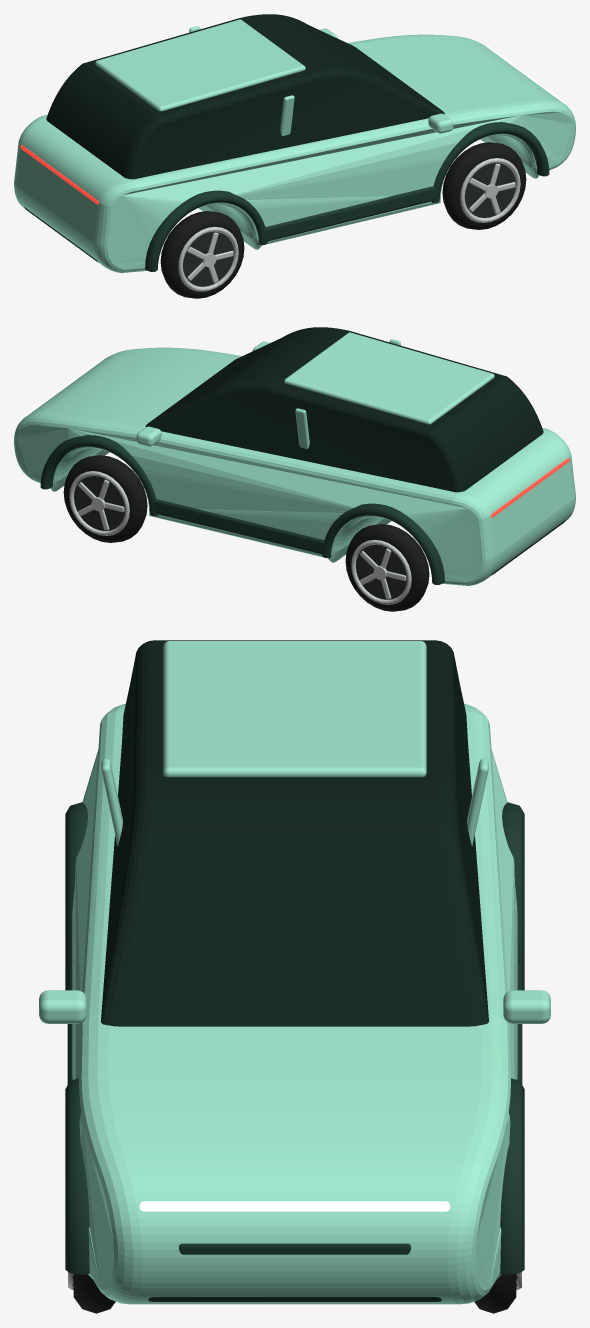
File: fiado-bil.glb
3 renders of one model, top to bottom at view 1: azimuth 30°, elevation 25°; view 2: azimuth 150°, elevation 25°; view 3: azimuth 270°, elevation 25°, orthographic. The views are drawn at different scales.
Visible parts, largest first — view 1: Karrosseri, FiadoBil, Ruder; view 2: Karrosseri, FiadoBil, Ruder; view 3: Karrosseri, Ruder, FiadoBil.
Boxes of the visible parts, x1,y1,x2,y2 form: Karrosseri: (14, 34, 575, 272); FiadoBil: (20, 19, 565, 298); Ruder: (46, 14, 444, 179); Karrosseri: (14, 347, 575, 585); FiadoBil: (24, 332, 569, 611); Ruder: (145, 327, 543, 492); Karrosseri: (72, 703, 517, 1304); Ruder: (100, 640, 489, 1026); FiadoBil: (39, 641, 550, 1313).
Size of the model in its own units: 4.63 by 1.74 by 2.14.
